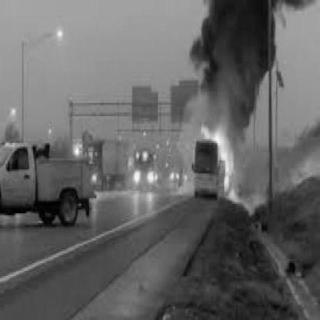Fire: (198, 114, 242, 194)
Smoke: (186, 2, 279, 116)
other: (133, 141, 163, 190), (85, 132, 112, 180)
